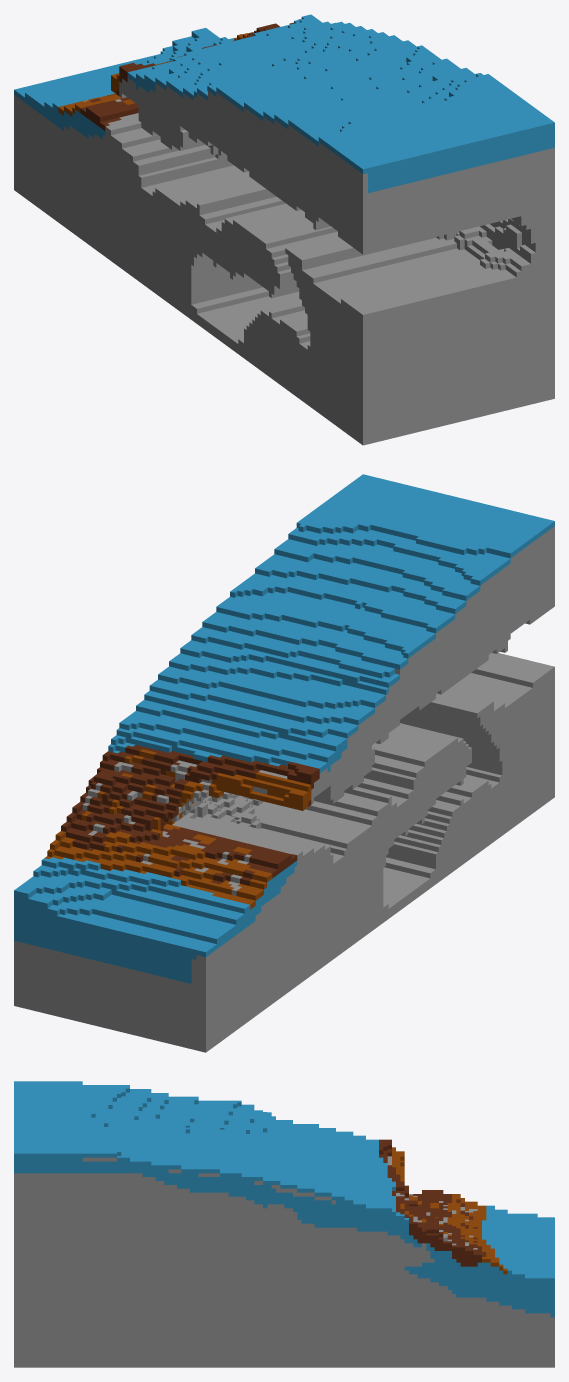
The model's file is level 1 - Part 3 - Naast.obj.
3 renders of one model, top to bottom at view 1: azimuth 30°, elevation 25°; view 2: azimuth 150°, elevation 25°; view 3: azimuth 270°, elevation 25°, orthographic. The views are drawn at different scales.
Size of the model in its own units: 40 by 55 by 126.
Materials: 1 (1 with a texture image).
